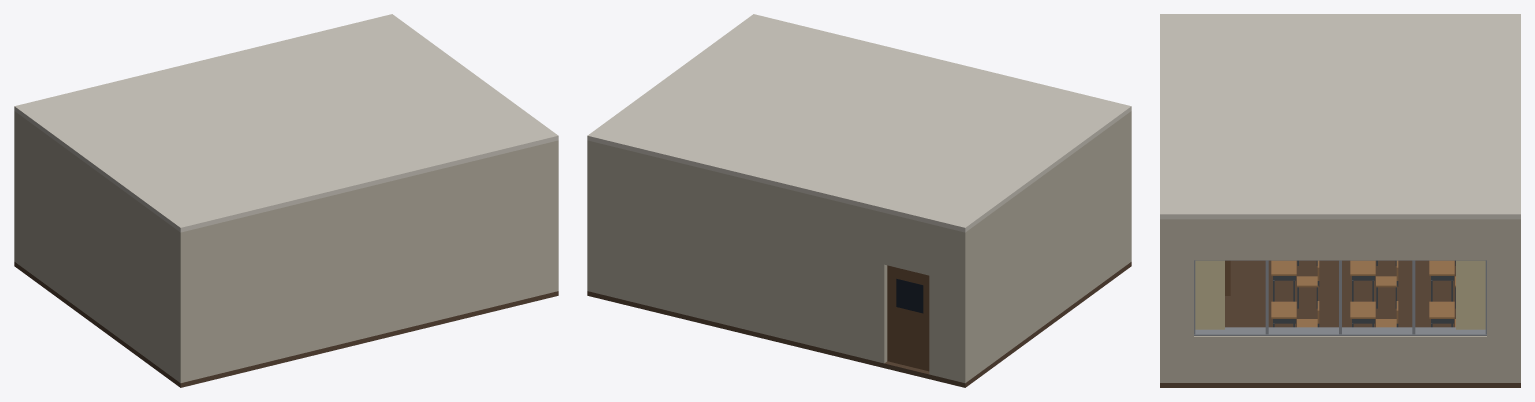
Rendered from classroom.glb.
3 renders of one model, left to right at view 1: azimuth 30°, elevation 25°; view 2: azimuth 150°, elevation 25°; view 3: azimuth 270°, elevation 25°, orthographic. The views are drawn at different scales.
Visible parts, largest first — view 1: Shell; view 2: Shell, Door; view 3: Shell, WindowFrames, Desks.
Part boxes in pixels (x1,y1,x2,y2): Shell: [14, 14, 558, 387]; Shell: [587, 14, 1131, 387]; Door: [887, 265, 929, 371]; Shell: [1160, 14, 1520, 387]; WindowFrames: [1194, 260, 1486, 335]; Desks: [1271, 260, 1455, 327].
Size of the model in its own units: 8.4 by 3.4 by 6.4.
